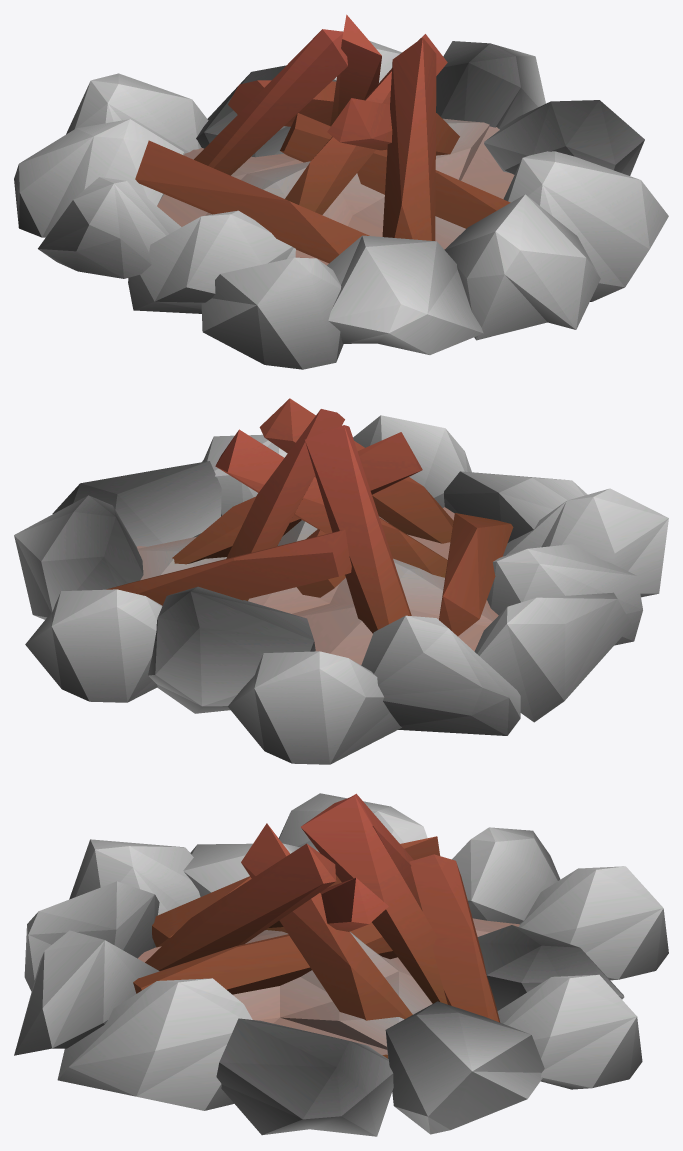
3 views of the same model, one above another, from view 1: azimuth 30°, elevation 25°; view 2: azimuth 150°, elevation 25°; view 3: azimuth 270°, elevation 25° (orthographic). The views are drawn at different scales.
Visible parts, largest first — view 1: Campfire; view 2: Campfire; view 3: Campfire.
Boxes of the visible parts, box(x1,y1,x2,y2) form: Campfire: box(14, 14, 668, 369); Campfire: box(14, 398, 668, 764); Campfire: box(14, 793, 668, 1136).
Size of the model in its own units: 150 by 57.33 by 144.
Materials: 1 (1 with a texture image).
